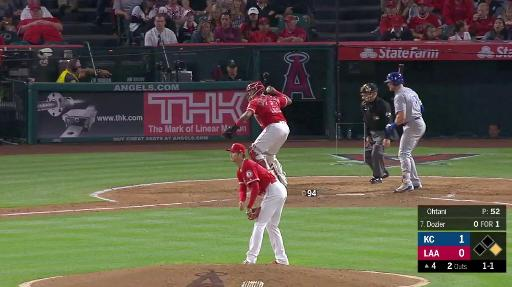pitcher: (225, 142, 292, 267)
